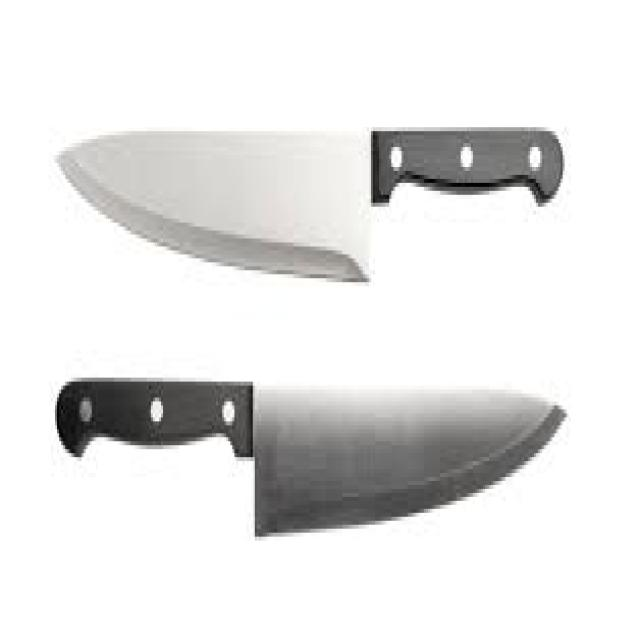Knife: (55, 374, 567, 536), (53, 123, 563, 282)
